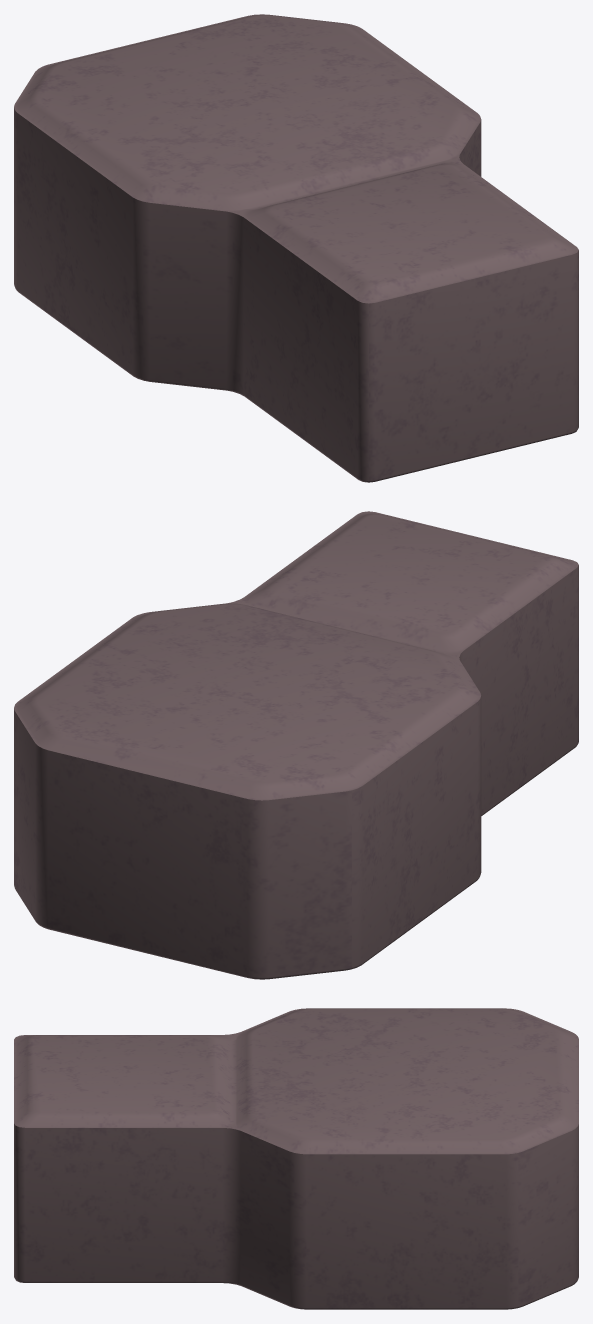
File: banjo-shale_brown.glb
3 views of the same model, one above another, from view 1: azimuth 30°, elevation 25°; view 2: azimuth 150°, elevation 25°; view 3: azimuth 270°, elevation 25° (orthographic). The views are drawn at different scales.
Visible parts, largest first — view 1: Banjo; view 2: Banjo; view 3: Banjo.
Boxes of the visible parts, <box> form: Banjo: <box>14,14,578,482</box>; Banjo: <box>14,511,578,979</box>; Banjo: <box>14,1008,578,1309</box>.
Size of the model in its own units: 0.1397 by 0.073 by 0.2286.
Materials: 1 (1 with a texture image).
